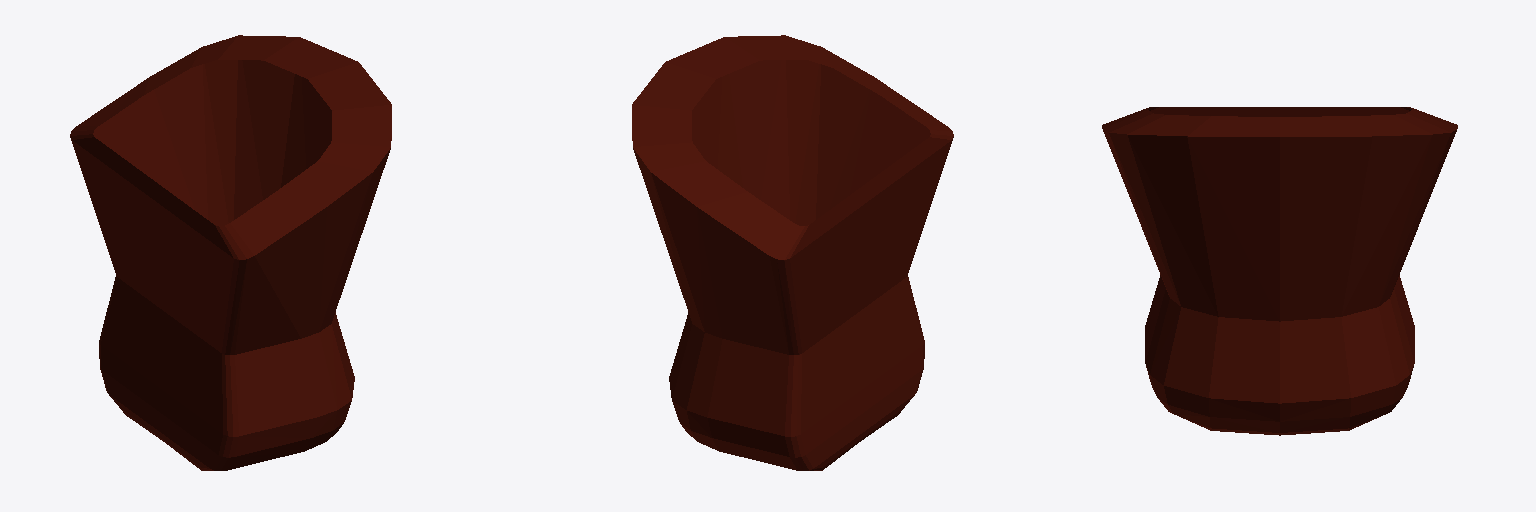
File: character_rogue.obj
The picture shows the model from 3 angles: view 1: azimuth 30°, elevation 25°; view 2: azimuth 150°, elevation 25°; view 3: azimuth 270°, elevation 25°; orthographic projection.
Size of the model in its own units: 0.1569 by 0.246 by 0.2343.